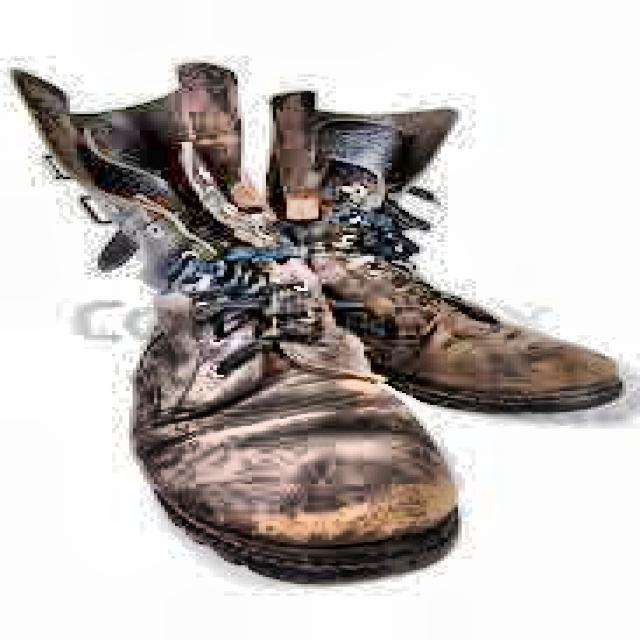shoes: (7, 57, 623, 581)
